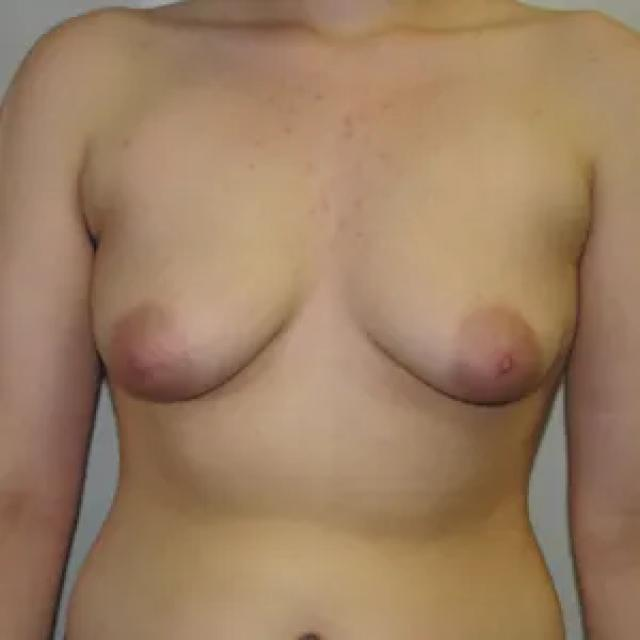Seno ileso: (327, 175, 589, 425), (81, 174, 317, 424)
